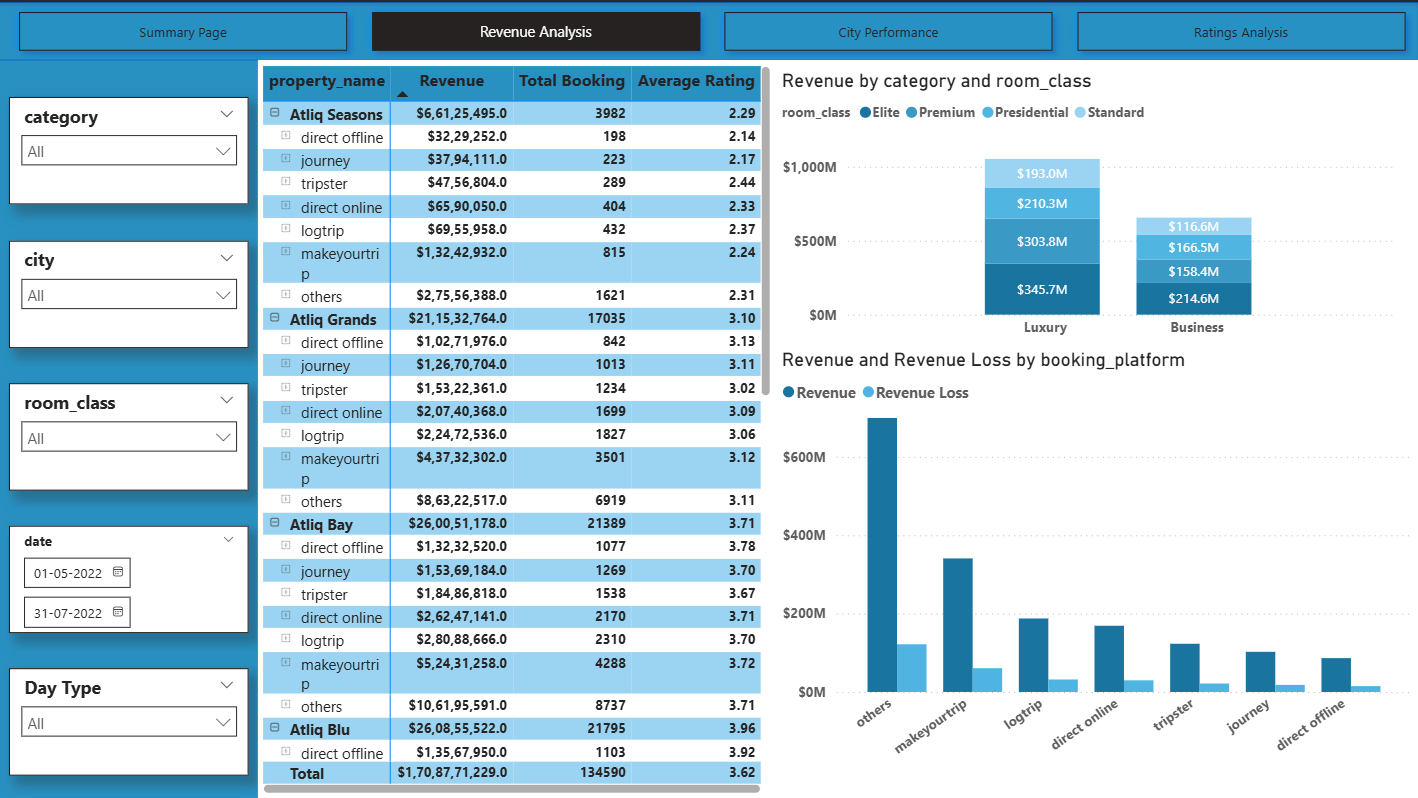

The dashboard page shown, as its layout file describes it:
{"tool":"powerbi","page":{"name":"Revenue Analysis","canvas":[1280,720],"ordinal":1},"visuals":[{"type":"shape","box":[0,0,1280.2,52.3],"z":0},{"type":"shape","box":[0,52.3,233.7,667.4],"z":1000},{"type":"slicer","fields":{"Values":["dim_hotels.category"]},"box":[9.3,86,216.3,96.5],"z":2000},{"type":"slicer","fields":{"Values":["dim_hotels.city"]},"box":[9.3,214.8,216.3,96.5],"z":3000},{"type":"slicer","fields":{"Values":["dim_rooms.room_class"]},"box":[9.3,343.6,216.3,96.5],"z":4000},{"type":"slicer","fields":{"Values":["dim_date.date"]},"box":[9.3,472.4,216.3,96.5],"z":5000},{"type":"slicer","fields":{"Values":["dim_date.day_type"]},"box":[9.3,601.2,216.3,96.5],"z":6000},{"type":"pivotTable","fields":{"Rows":["dim_hotels.property_name","fact_bookings.booking_platform","dim_rooms.room_class","fact_aggregated_bookings.room_category"],"Values":["Measure Table.Revenue","Measure Table.Total Booking","Measure Table.Average Rating"]},"box":[233.8,53.3,467.5,666.2],"z":7000},{"type":"columnChart","fields":{"Category":["dim_hotels.category"],"Y":["Measure Table.Revenue"],"Series":["dim_rooms.room_class"]},"box":[701.6,61,562.3,251.3],"z":8000},{"type":"clusteredColumnChart","fields":{"Category":["fact_bookings.booking_platform"],"Y":["Measure Table.Revenue","Measure Table.Revenue Loss"]},"box":[701.6,312.2,578.4,386.9],"z":9000},{"type":"pageNavigator","box":[8.7,0,1271.3,53.5],"z":10000}]}

Visuals, with their boxes in screenshot pixels (x1, y1, x2, y2), scaled from the page's 1280x720 canvas onto the 1418x798 screenshot:
shape: (x1=0, y1=0, x2=1417, y2=58)
shape: (x1=0, y1=58, x2=259, y2=797)
slicer - dim_hotels.category: (x1=10, y1=95, x2=250, y2=202)
slicer - dim_hotels.city: (x1=10, y1=238, x2=250, y2=345)
slicer - dim_rooms.room_class: (x1=10, y1=381, x2=250, y2=488)
slicer - dim_date.date: (x1=10, y1=524, x2=250, y2=631)
slicer - dim_date.day_type: (x1=10, y1=666, x2=250, y2=773)
pivotTable - dim_hotels.property_name x fact_bookings.booking_platform: (x1=259, y1=59, x2=777, y2=797)
columnChart - dim_hotels.category x Measure Table.Revenue: (x1=777, y1=68, x2=1400, y2=346)
clusteredColumnChart - fact_bookings.booking_platform x Measure Table.Revenue: (x1=777, y1=346, x2=1417, y2=775)
pageNavigator: (x1=10, y1=0, x2=1417, y2=59)
